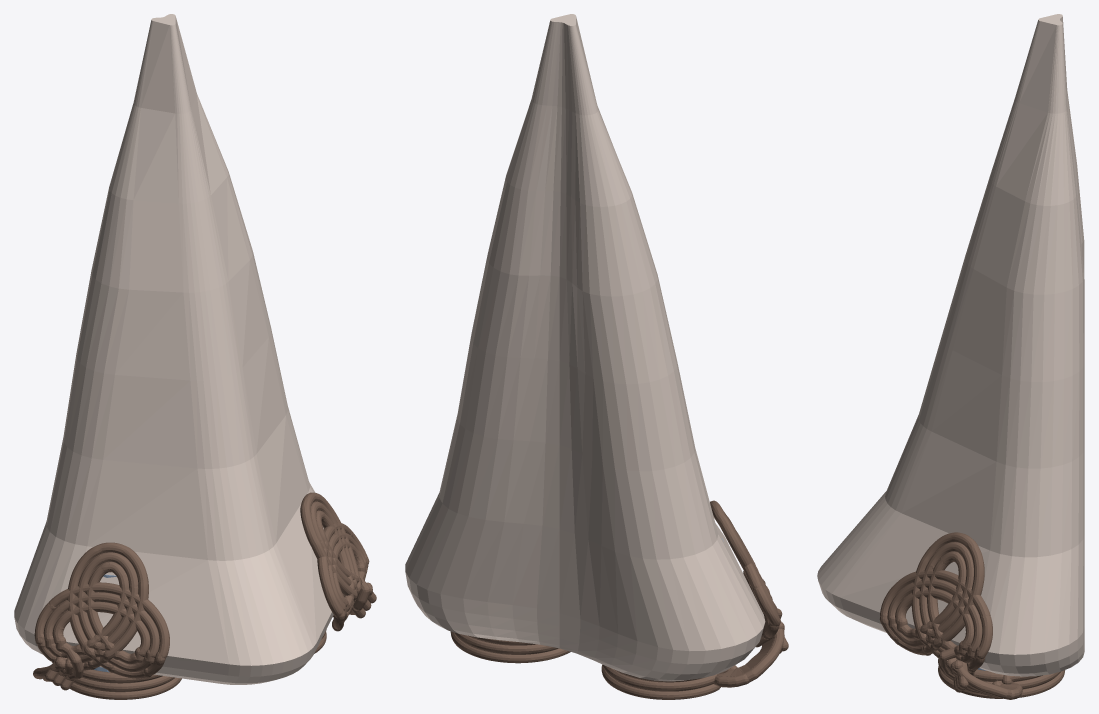
Rendered from candidate_frontal.glb.
3 views of the same model, side by side, from view 1: azimuth 30°, elevation 25°; view 2: azimuth 150°, elevation 25°; view 3: azimuth 270°, elevation 25° (orthographic). The views are drawn at different scales.
Visible parts, largest first — view 1: body, frame_mizuhiki_left, frame_mizuhiki_right; view 2: body, frame_mizuhiki_left, frame_mizuhiki_right; view 3: body, frame_mizuhiki_right.
Boxes of the visible parts, x1,y1,x2,y2 form: body: (14, 14, 333, 684); frame_mizuhiki_left: (33, 542, 181, 699); frame_mizuhiki_right: (300, 492, 376, 653); body: (405, 14, 765, 681); frame_mizuhiki_left: (601, 500, 788, 699); frame_mizuhiki_right: (450, 631, 570, 663); body: (817, 14, 1084, 676); frame_mizuhiki_right: (879, 532, 1065, 699).
Size of the model in its own units: 32.67 by 57.98 by 22.75.
